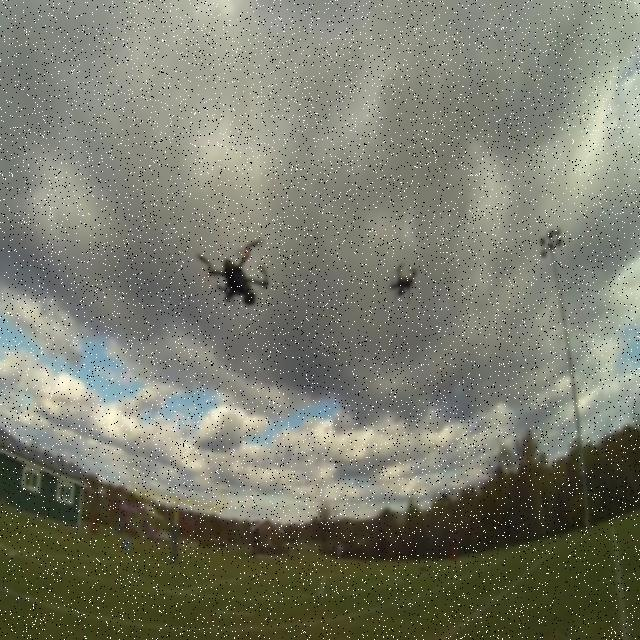UAV: (196, 239, 268, 307), (388, 263, 422, 302)
